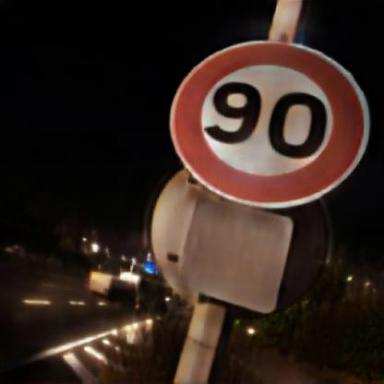Speed_limit_90: (172, 42, 368, 204)
